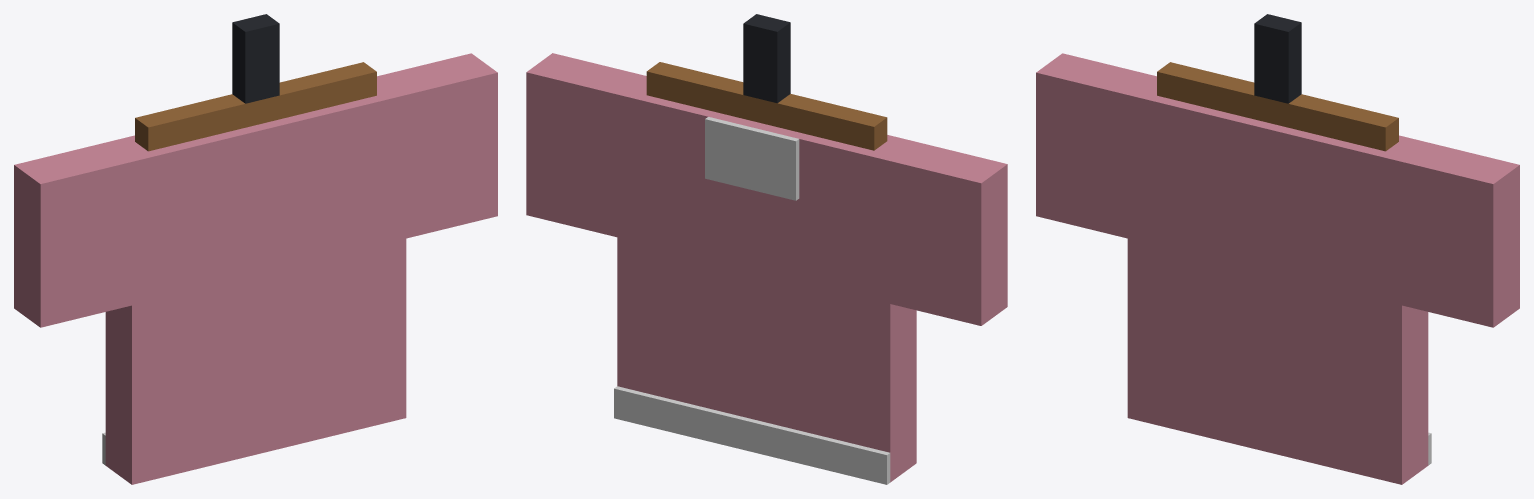
The model's file is cp-shirt-pink.glb.
3 views of the same model, side by side, from view 1: azimuth 30°, elevation 25°; view 2: azimuth 150°, elevation 25°; view 3: azimuth 330°, elevation 25° (orthographic).
Visible parts, largest first — view 1: box-prop; view 2: box-prop; view 3: box-prop.
Part boxes in pixels (<box>): box-prop: <box>14,14,497,484</box>; box-prop: <box>526,14,1007,484</box>; box-prop: <box>1036,14,1519,484</box>.
Bounding box in the file's own units: 0.8 × 0.7 × 0.09.
